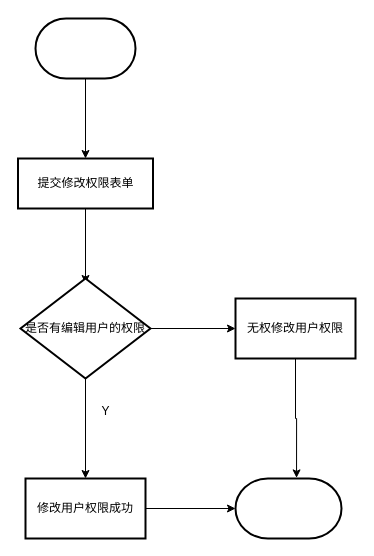
Image size: 374x556. Some labels were removed from this diagram. Each missing label, with the centre of its shape:
"开始" goes at (85,48).
"结束" goes at (288,508).
